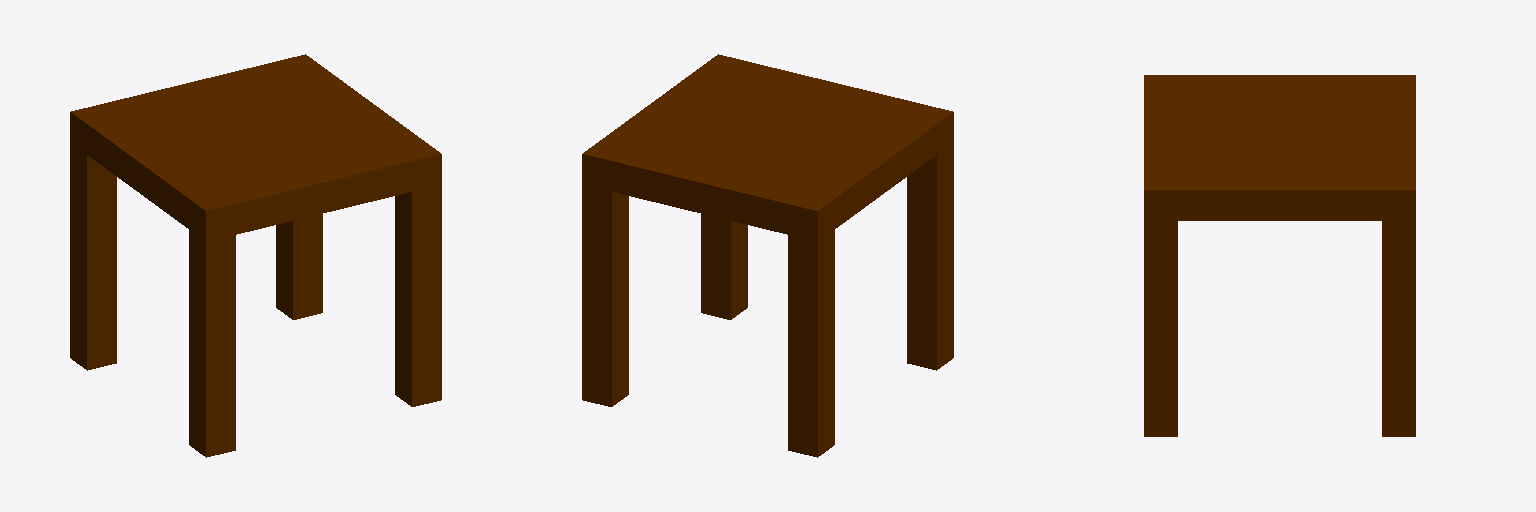
3 renders of one model, left to right at view 1: azimuth 30°, elevation 25°; view 2: azimuth 150°, elevation 25°; view 3: azimuth 270°, elevation 25°, orthographic.
Visible parts, largest first — view 1: Model; view 2: Model; view 3: Model.
Boxes of the visible parts, <box> form: Model: <box>70,54,441,457</box>; Model: <box>582,54,953,457</box>; Model: <box>1144,75,1415,436</box>.
Bounding box in the file's own units: 32 × 32 × 32.
Materials: 1 (1 with a texture image).